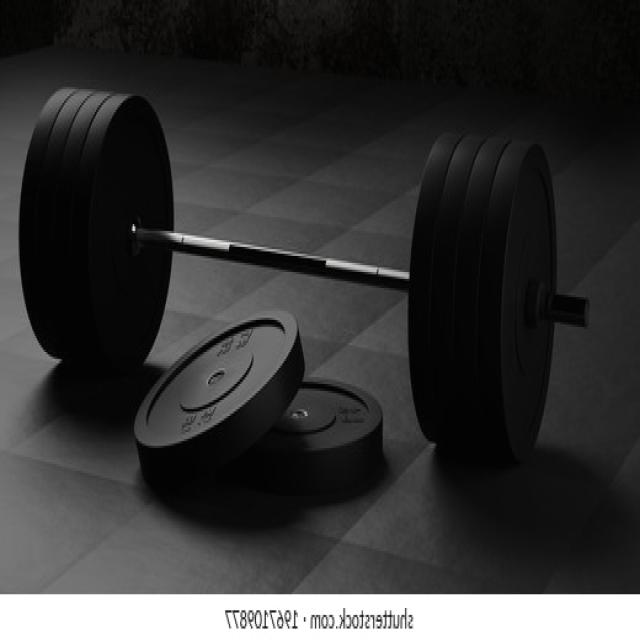barbell_plate_side: (18, 82, 161, 473), (448, 82, 591, 473)
